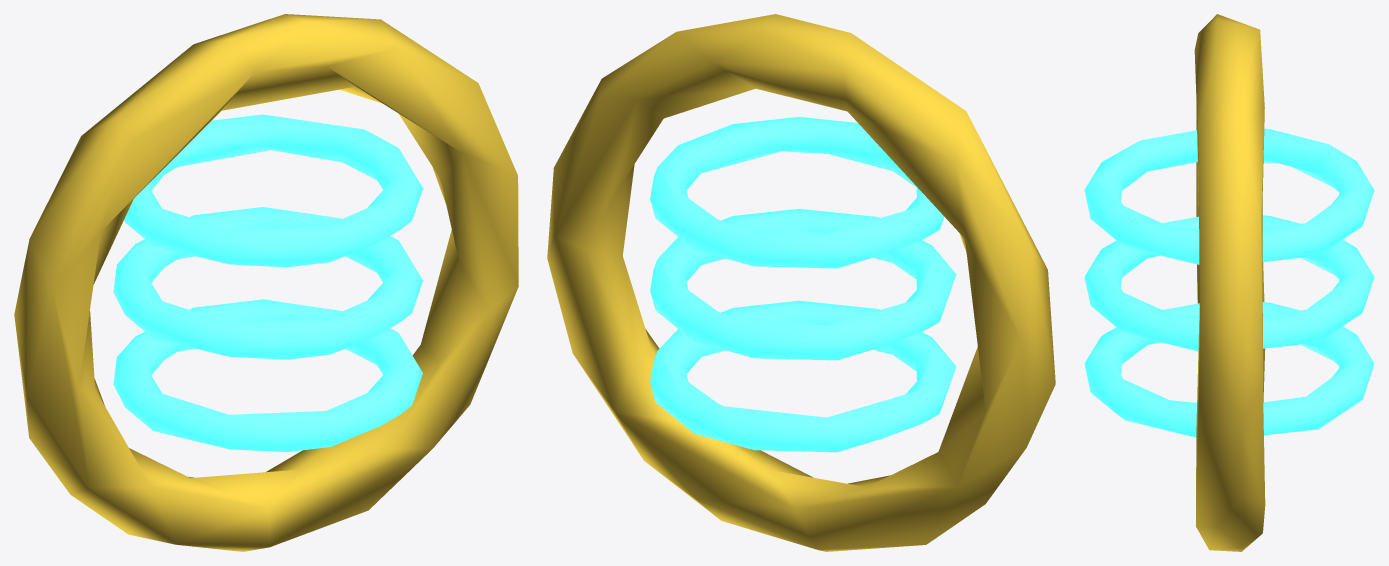
File: Pickup_pulse_LOD2.glb
The picture shows the model from 3 angles, left to right: view 1: azimuth 30°, elevation 25°; view 2: azimuth 150°, elevation 25°; view 3: azimuth 270°, elevation 25°; orthographic projection. The views are drawn at different scales.
Parts seen in each view (by area): view 1: Pickup ring.002, Wave.002, Wave, Wave.001; view 2: Pickup ring.002, Wave.002, Wave, Wave.001; view 3: Pickup ring.002, Wave.002, Wave.001, Wave.
Part boxes in pixels (left/top/right/bottom): Pickup ring.002: left=14, top=14, right=518, bottom=551; Wave.002: left=124, top=114, right=422, bottom=267; Wave: left=113, top=299, right=422, bottom=452; Wave.001: left=113, top=207, right=422, bottom=359; Pickup ring.002: left=547, top=14, right=1055, bottom=551; Wave.002: left=650, top=117, right=944, bottom=268; Wave: left=650, top=300, right=956, bottom=452; Wave.001: left=650, top=208, right=956, bottom=360; Pickup ring.002: left=1194, top=14, right=1265, bottom=551; Wave.002: left=1084, top=128, right=1374, bottom=264; Wave.001: left=1084, top=215, right=1374, bottom=351; Wave: left=1084, top=302, right=1374, bottom=437.
Size of the model in its own units: 0.845 by 0.8465 by 0.4546.
